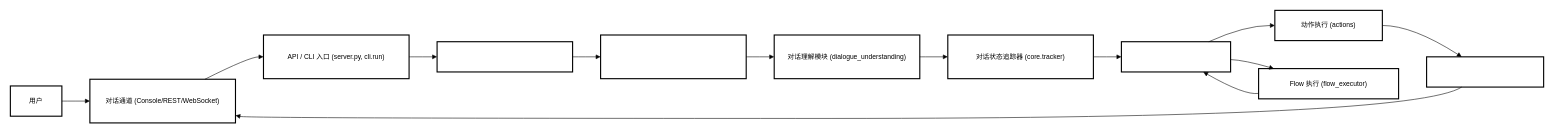
This 1553x133 diagram has some shape labels left out. The shapes that lost their labels are listed below. From the top down, each one's box as (x1, y1, x2, y2) in pixels, then its label:
(436, 41, 573, 72): Agent 核心 (agent.Agent)
(600, 34, 746, 79): 消息处理器 (message_processor)
(1121, 41, 1231, 72): 策略决策 (policies)
(1426, 56, 1544, 87): NLG / 模板生成 (nlg)
